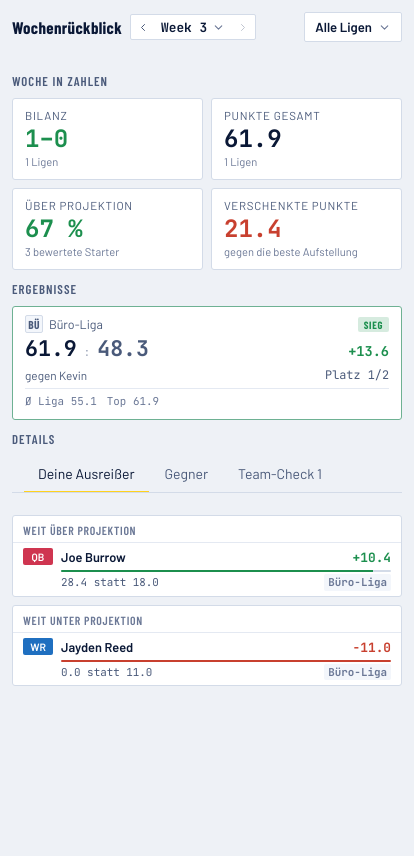
WeeklyPage › bündelt Ausreißer, Gegner und Team-Check in Tabs
Expected: the tab "Deine Ausreißer" is shown, [24,456,148,493]
Expected: the tab "Team-Check 1" is shown, [224,456,336,493]
Click the tab "Gegner" at (186, 475), box [150,456,222,493]
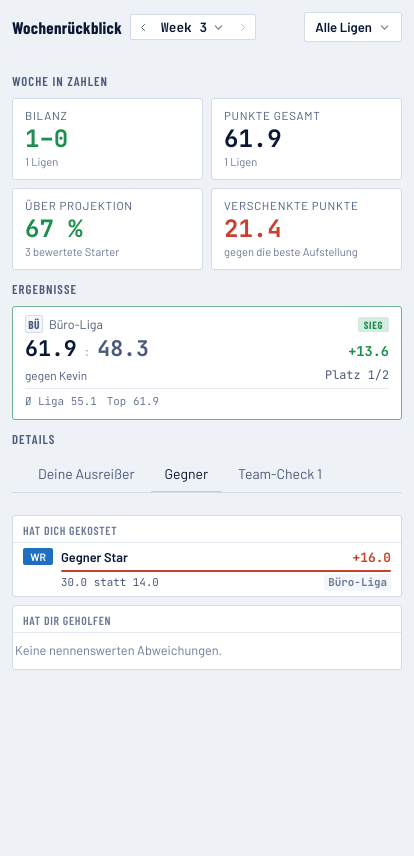
Expected: the text "Hat dich gekostet" is shown, [13,516,401,543]
